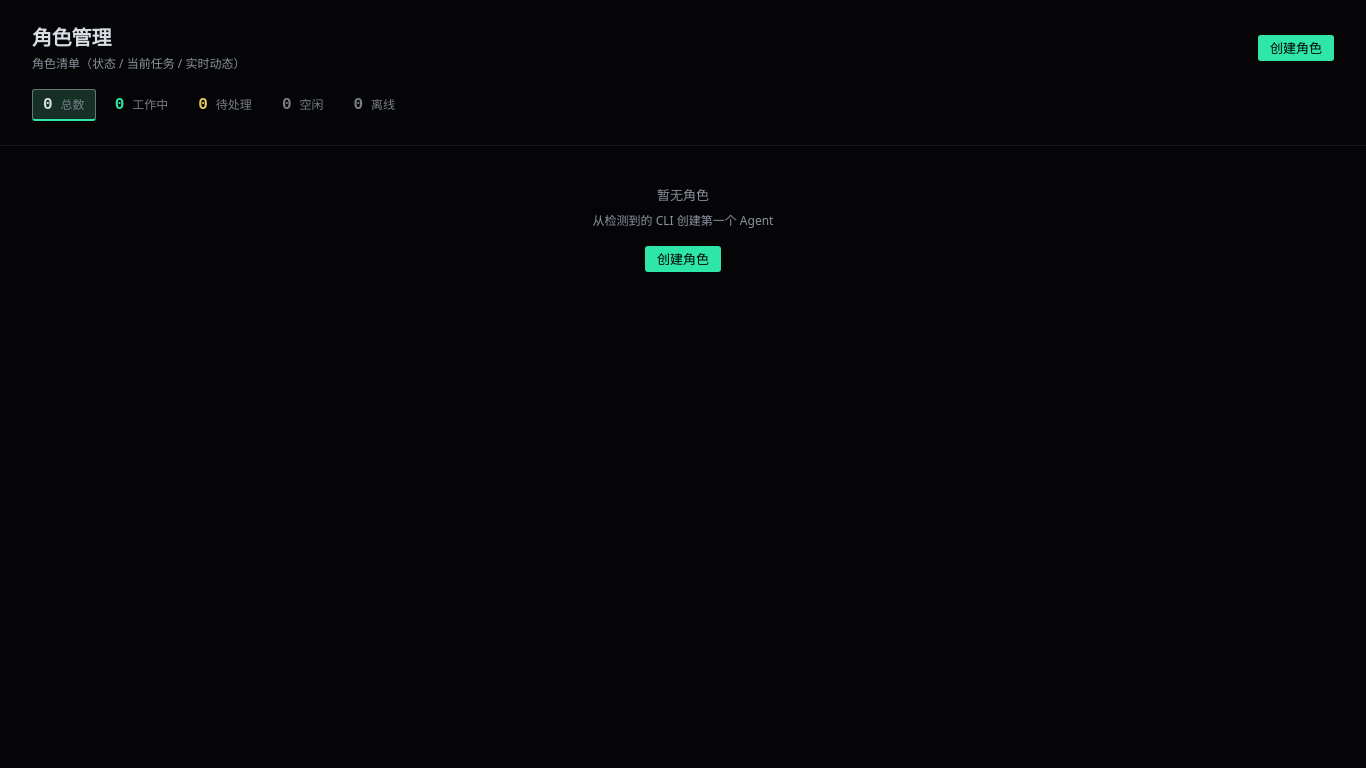
Test: AgentDashboardPage › D-3 项1：零角色空态 = 说明 + 主行动按钮，点击就地开 CreateRoleModal（不跳页）
Click the button "创建角色" below "从检测到的 CLI 创建第一个 Agent": {"x": 683, "y": 259} [645,246,721,272]
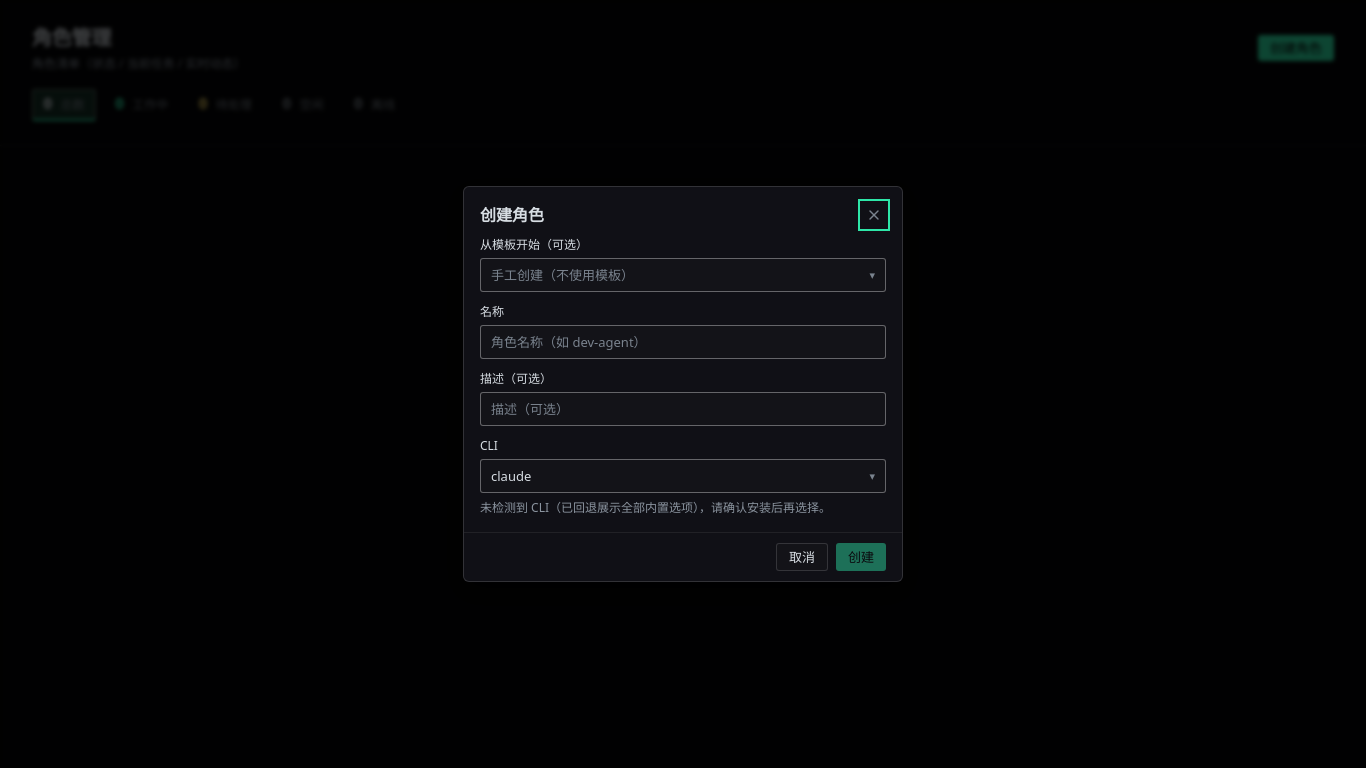
expect the text "未检测到 CLI（已回退展示全部内置选项），请确认安装后再选择。" is shown: met, box [480,499,886,516]
